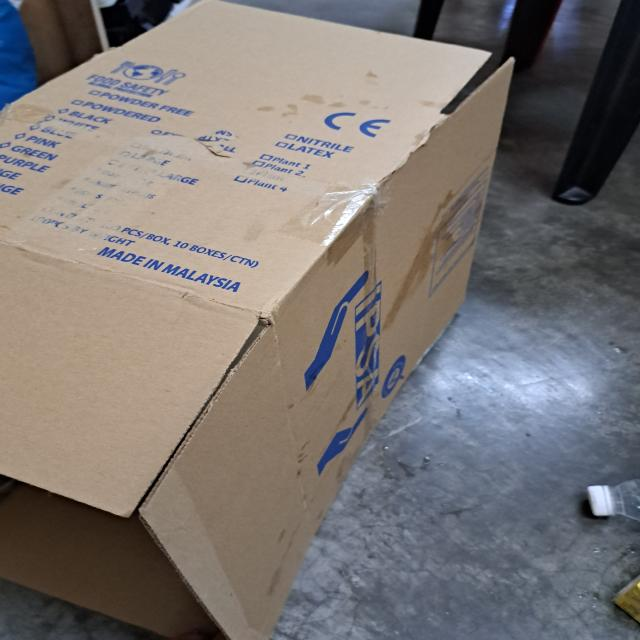cardboard: (0, 0, 516, 640)
plastic bottle: (609, 478, 640, 524)
plastic bottle cap: (587, 485, 613, 516)
